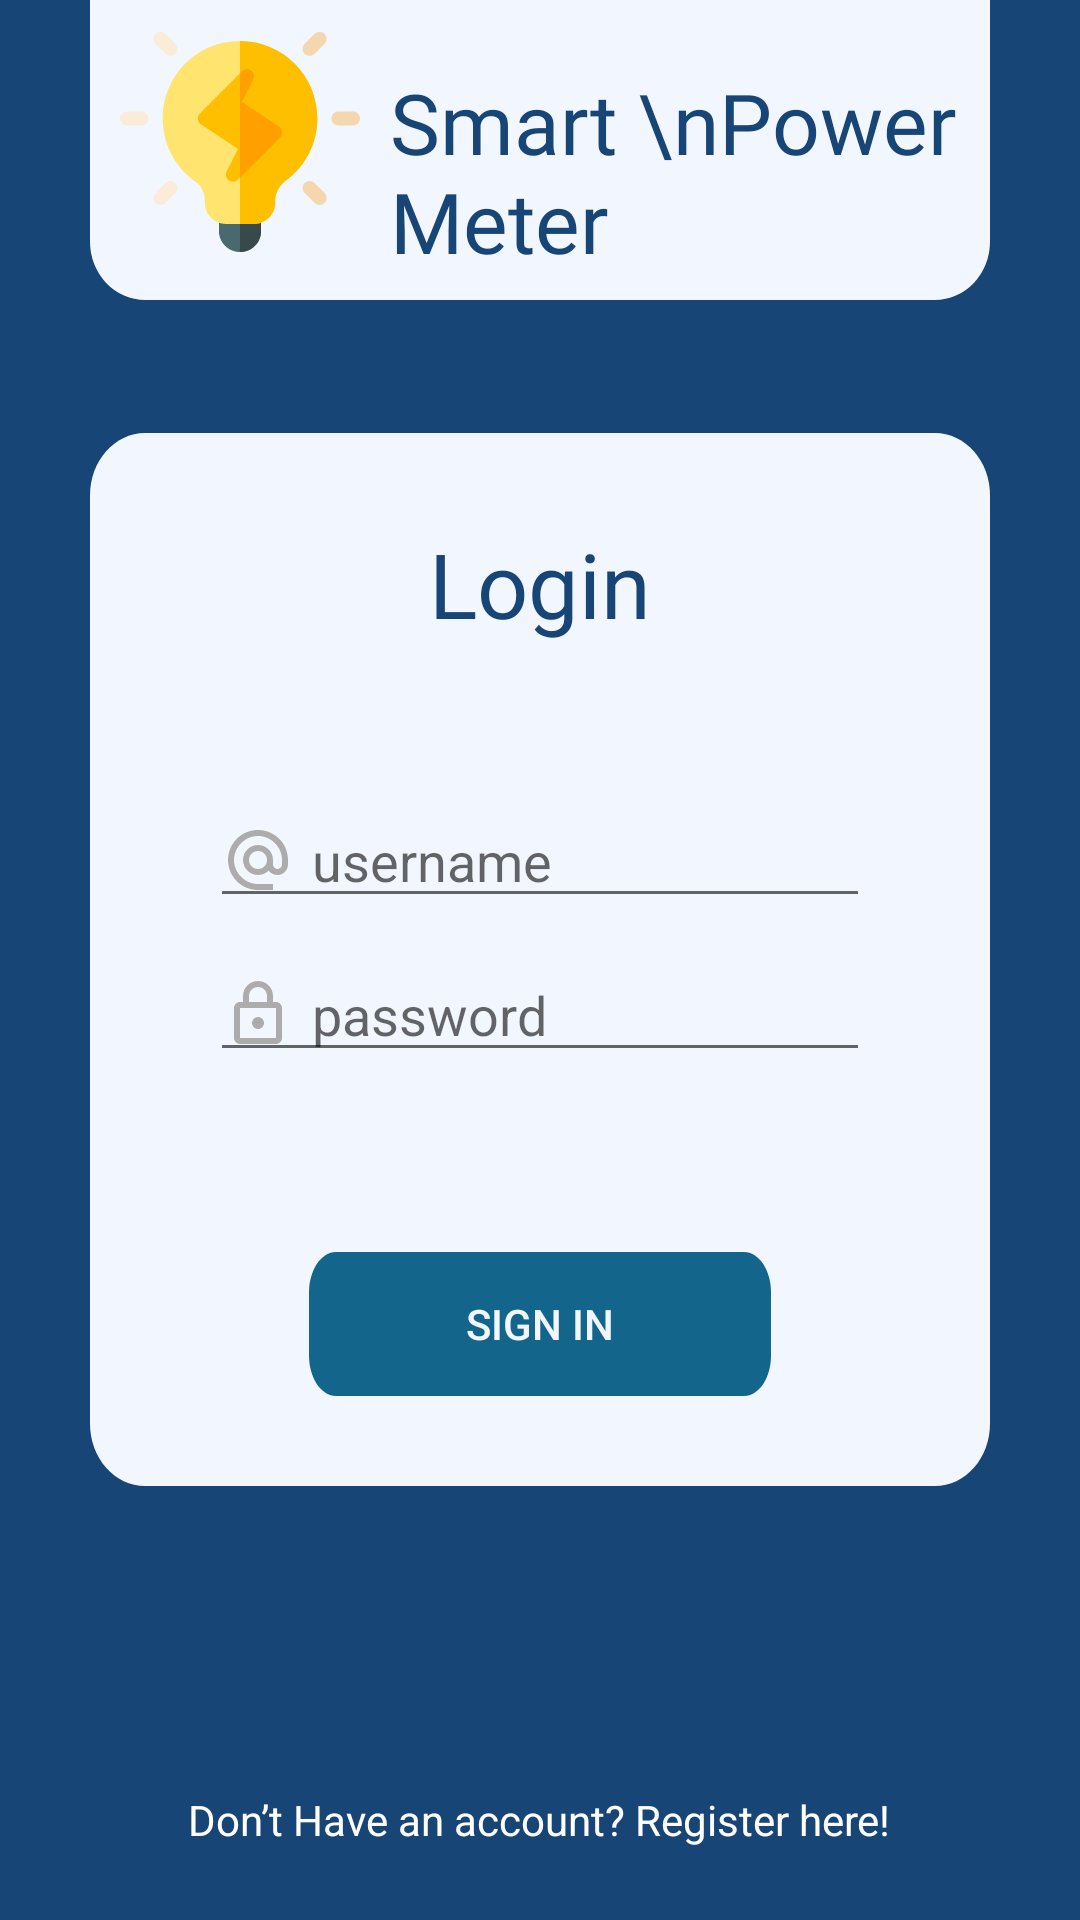

Where icons sit on this 1080×1920 app screen, as [left=x1, top=y1, right=x2, bottom=y2]:
idea: [left=120, top=32, right=360, bottom=252]
